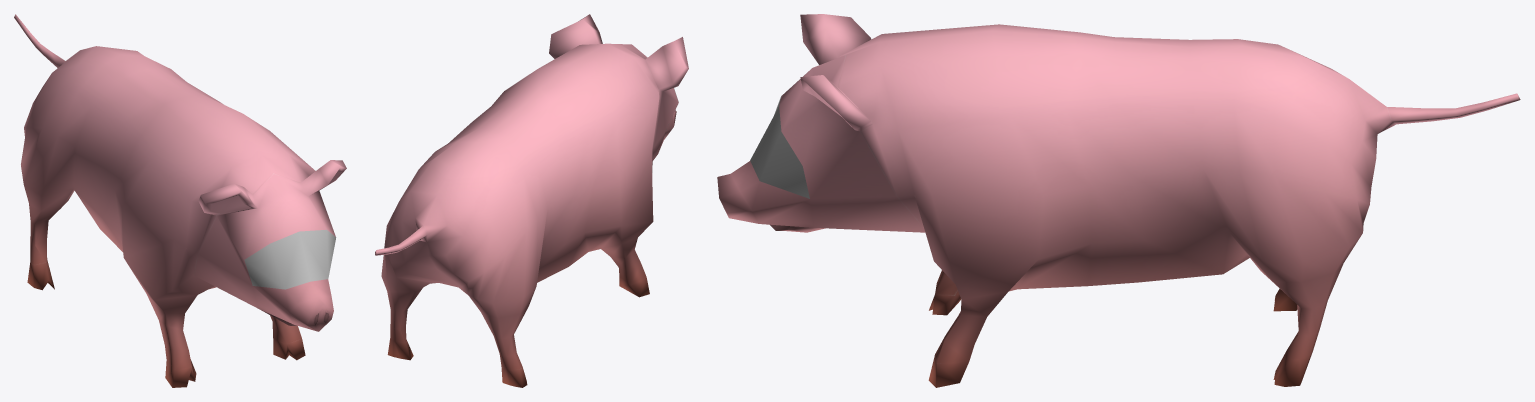
Rendered from cerdo1.fbx.
3 views of the same model, side by side, from view 1: azimuth 30°, elevation 25°; view 2: azimuth 150°, elevation 25°; view 3: azimuth 270°, elevation 25° (orthographic). The views are drawn at different scales.
Visible parts, largest first — view 1: Plane, Plane.002; view 2: Plane; view 3: Plane, Plane.002.
Boxes of the visible parts, x1=… form: Plane: x1=14, y1=14, x2=346, y2=387; Plane.002: x1=244, y1=229, x2=336, y2=289; Plane: x1=375, y1=14, x2=688, y2=387; Plane: x1=717, y1=14, x2=1520, y2=387; Plane.002: x1=750, y1=95, x2=809, y2=198.
Size of the model in its own units: 284 by 422 by 977.
